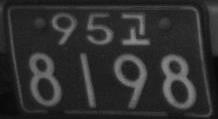1: (72, 52, 103, 108)
5: (86, 12, 114, 45)
8: (160, 52, 197, 109), (28, 50, 62, 106)
9: (112, 52, 147, 109), (50, 12, 78, 46)
고: (120, 11, 150, 45)
